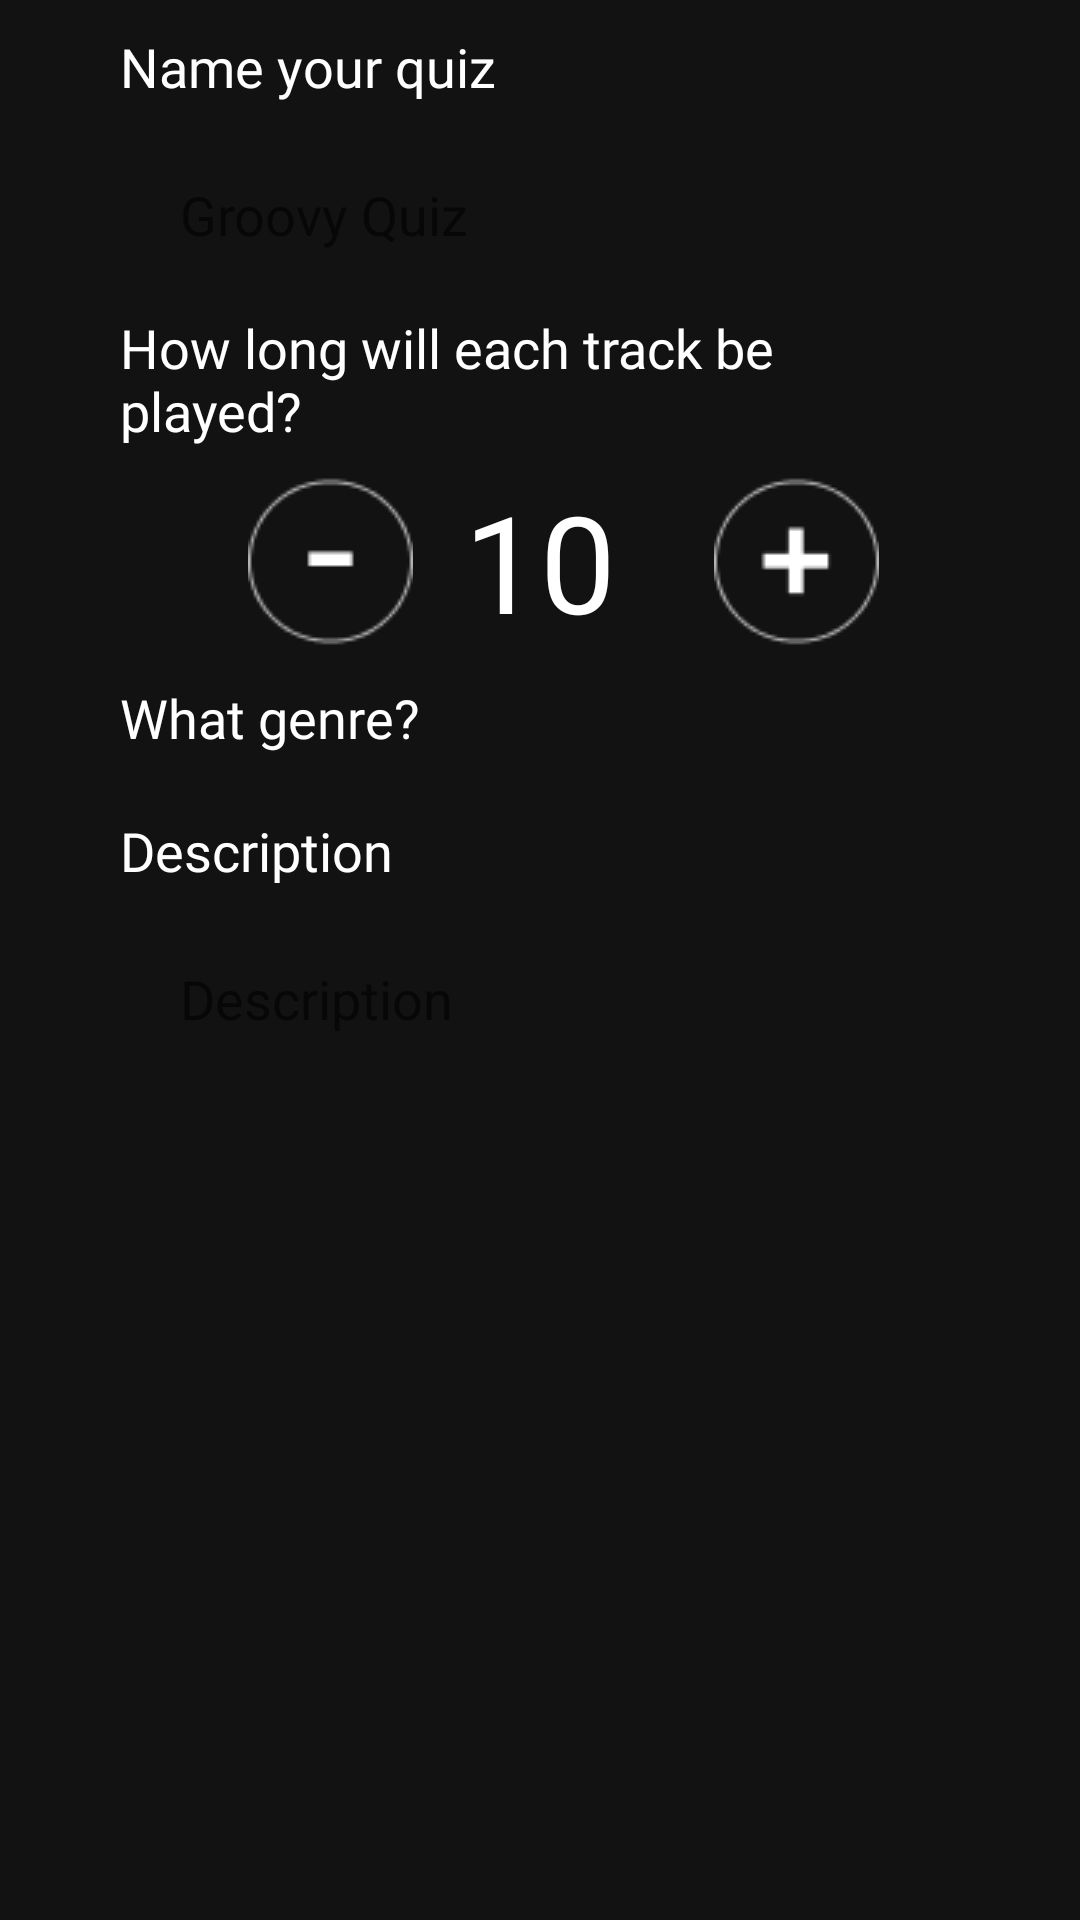

Point at icon controls on the screen. Image size 1080 x 1920, points as [x,y].
add circle: [796,561]
minus circle: [330,561]
